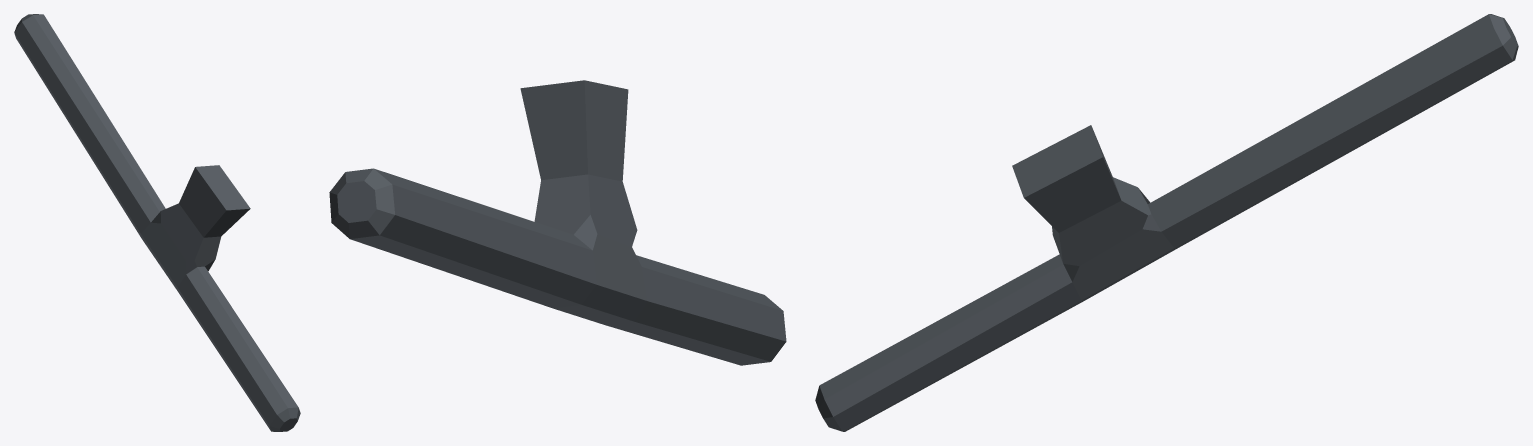
File: Dropship_03_Skid.fbx
3 renders of one model, left to right at view 1: azimuth 30°, elevation 25°; view 2: azimuth 150°, elevation 25°; view 3: azimuth 270°, elevation 25°, orthographic. The views are drawn at different scales.
Visible parts, largest first — view 1: Dropship_03_Skid; view 2: Dropship_03_Skid; view 3: Dropship_03_Skid.
Part boxes in pixels (<box>): Dropship_03_Skid: <box>14,14,300,431</box>; Dropship_03_Skid: <box>329,80,786,365</box>; Dropship_03_Skid: <box>815,14,1518,431</box>.
Bounding box in the file's own units: 23.13 × 77.12 × 125.
1 material, 1 textured.
